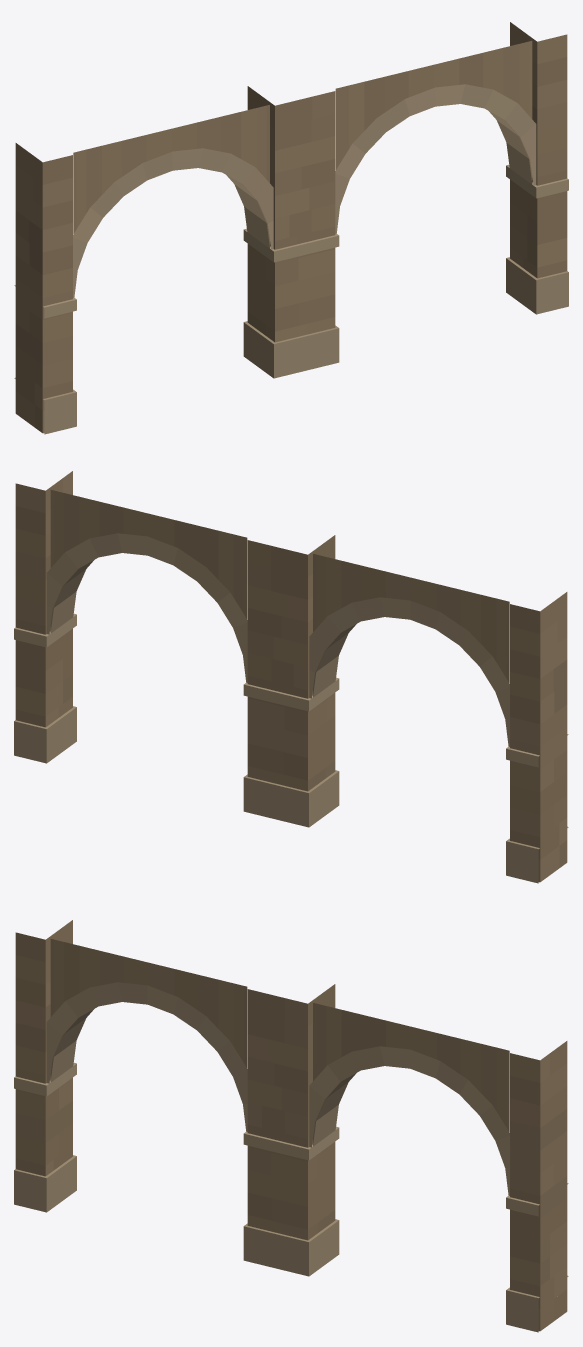
The model's file is wall.arcade.sandstone.glb.
3 renders of one model, top to bottom at view 1: azimuth 30°, elevation 25°; view 2: azimuth 150°, elevation 25°; view 3: azimuth 330°, elevation 25°, orthographic.
Visible parts, largest first — view 1: wall_arcade_sandstone; view 2: wall_arcade_sandstone; view 3: wall_arcade_sandstone.
Boxes of the visible parts, x1,y1,x2,y2 form: wall_arcade_sandstone: [14, 22, 568, 434]; wall_arcade_sandstone: [14, 471, 568, 883]; wall_arcade_sandstone: [14, 920, 568, 1332].
Size of what is drawn, in the model's own units: 8 by 3.95 by 0.8.
